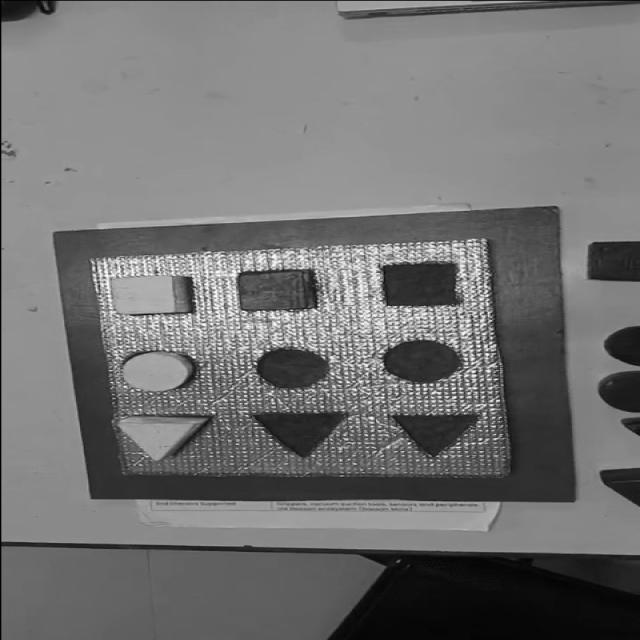bcircle: (601, 325, 640, 367)
bcube: (586, 242, 640, 284)
mtcircle: (381, 339, 462, 382), (255, 347, 330, 389)
mtcube: (379, 261, 463, 308)
mttriangle: (250, 410, 347, 458), (389, 412, 481, 457)
rcircle: (597, 369, 639, 413)
rcube: (235, 268, 317, 312)
wb: (90, 239, 512, 479)
ycircle: (118, 350, 197, 393)
ycube: (109, 275, 193, 315)
ytriangle: (115, 413, 212, 462)
